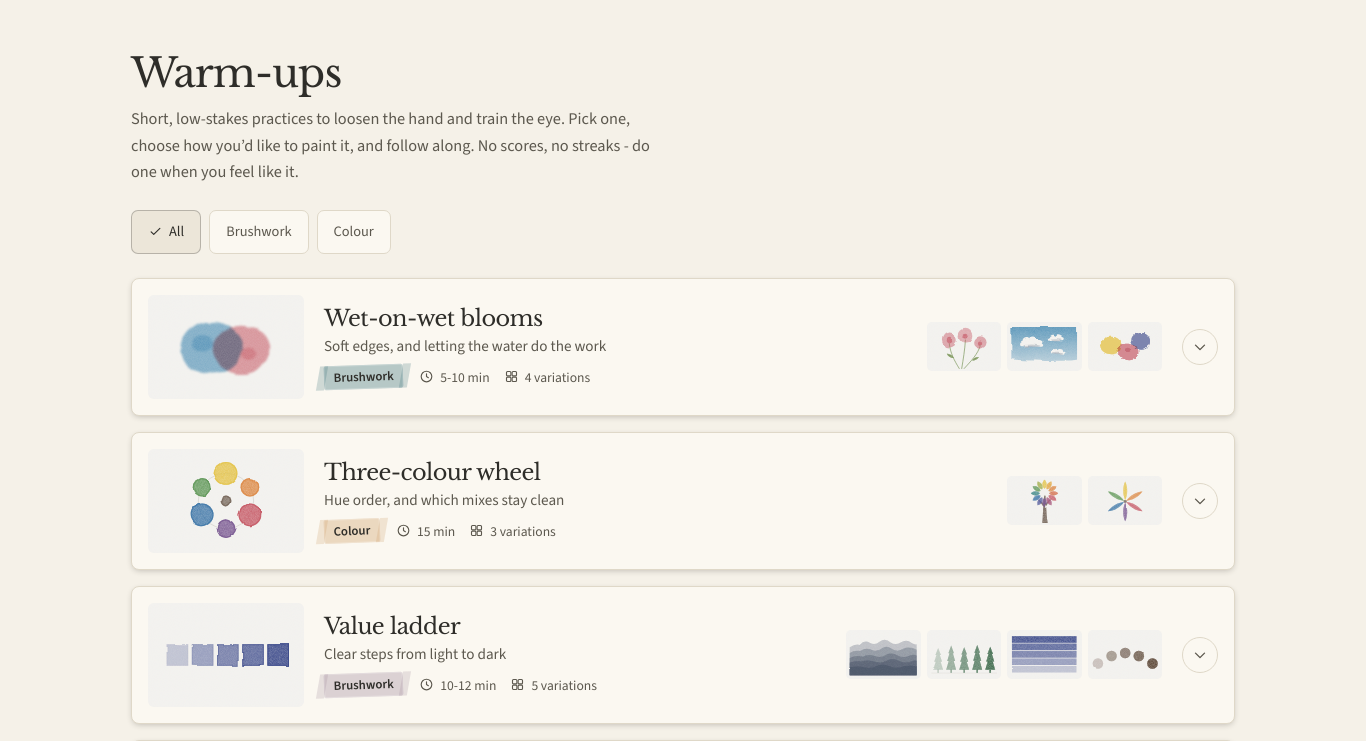
Test: Exercises › shows warm-ups and filters by kind
Expected: the heading "Warm-ups" is shown, x1=131 y1=48 x2=341 y2=98
Expected: the heading "Three-colour wheel" is shown, x1=132 y1=432 x2=1234 y2=568
Click the button "Brushwork" at {"x": 259, "y": 232}, box x1=209 y1=210 x2=309 y2=254
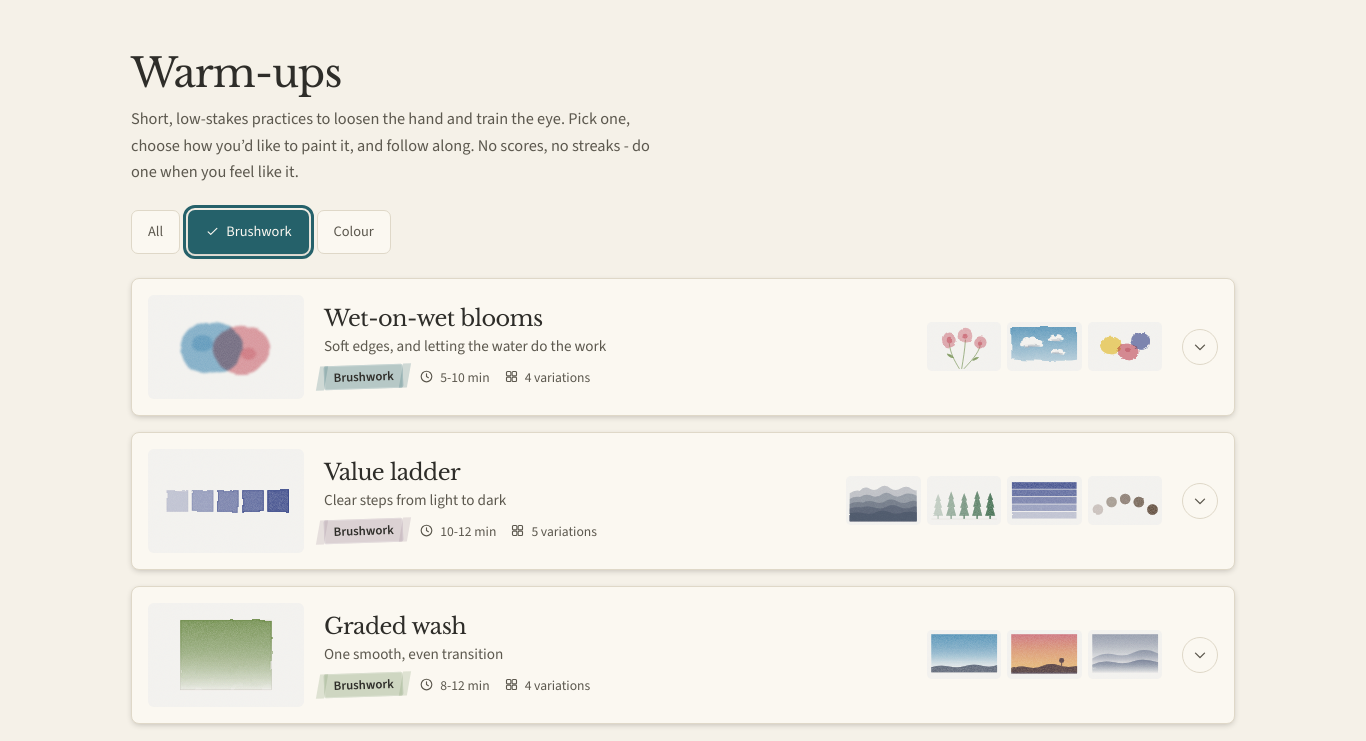
Expected: the heading "Graded wash" is shown, x1=132 y1=586 x2=1234 y2=722
Now the button "Three-colour wheel" is gone
